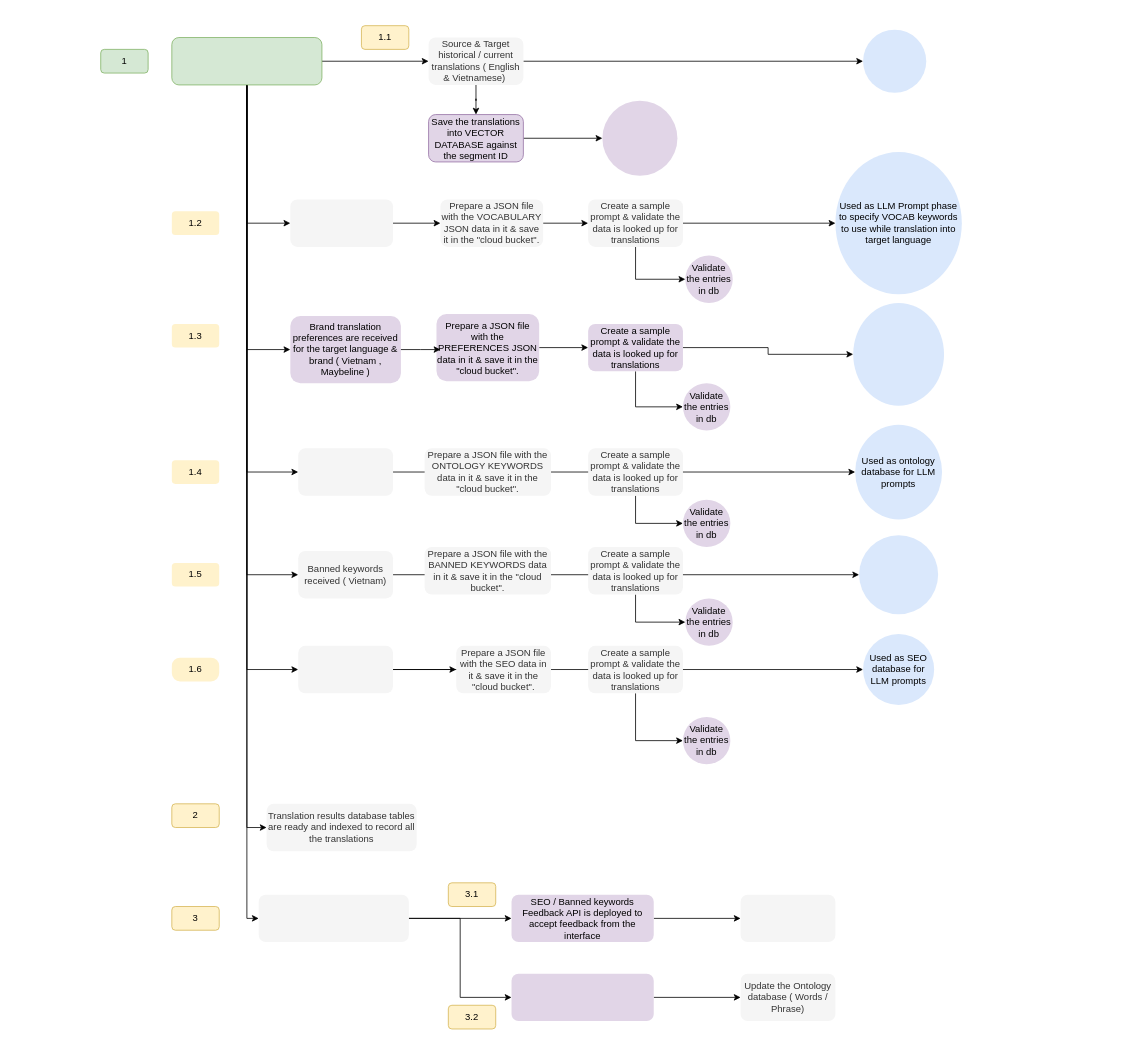
The diagram is 1133 pixels wide and 1062 high, and some of its shapes have lost their labels. Each missing label, with the box of its shape:
Adaptive feedback readiness is done for the target language(Vietnamese): (258, 894, 408, 942)
Keyword mappings for target language ( Vietnam): (298, 448, 393, 495)
L'Oreal global team extracts dataset for model training ( Source / Target ): (171, 37, 322, 85)
Ontology mapping API is deployed to accept feedback from the interface: (511, 973, 653, 1021)
SEO Keywords are received ( Vietnam ): (298, 645, 393, 693)
Update the SEO / Banned keywords in the respective databases: (740, 894, 835, 942)
Used as Banned keywords database for LLM prompts: (859, 535, 938, 614)
Used as few shot, prompt references: (863, 29, 926, 92)
Used as LLM Prompt phase to specify translation preferences: (853, 303, 944, 405)
Validate the references are used in sample translations: (602, 100, 677, 175)
Vocabulary is received / created from the dataset ( for target language Vietnam): (290, 199, 393, 246)
